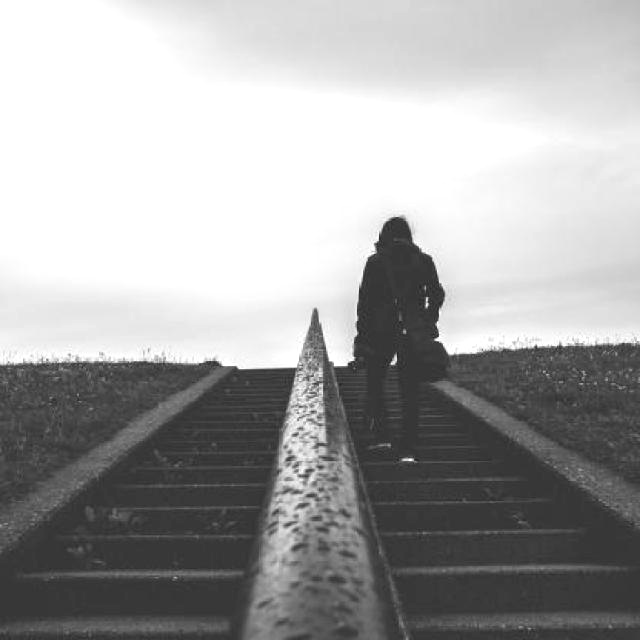stair: (326, 358, 637, 637), (3, 357, 289, 640)
